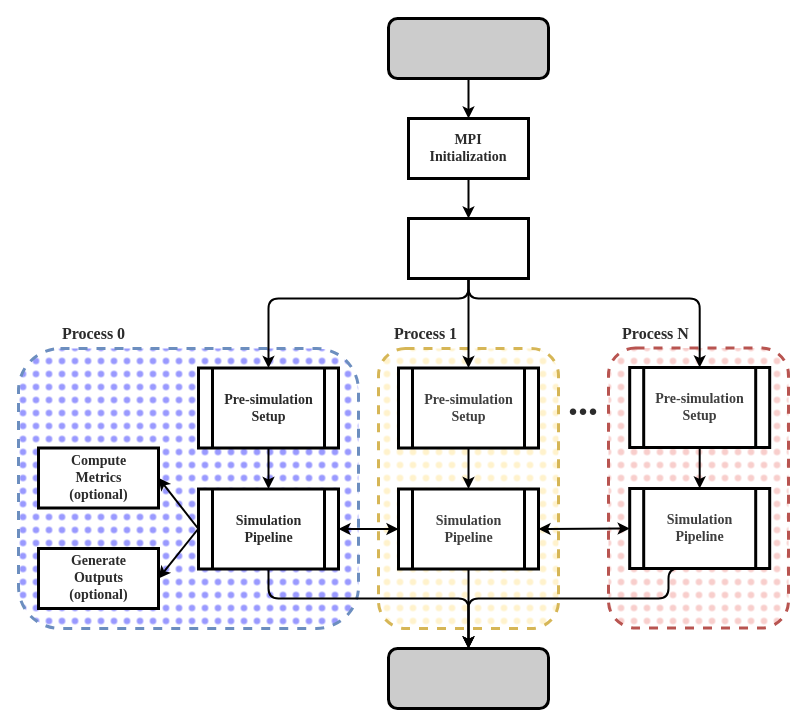
Some shapes in this 807 by 727 pixel diagram are drawn without their labels. Each missing label, with the box of its shape:
Domain Decomposition: (406, 216, 530, 280)
End Simulation: (386, 646, 550, 710)
Start: (386, 16, 550, 80)
